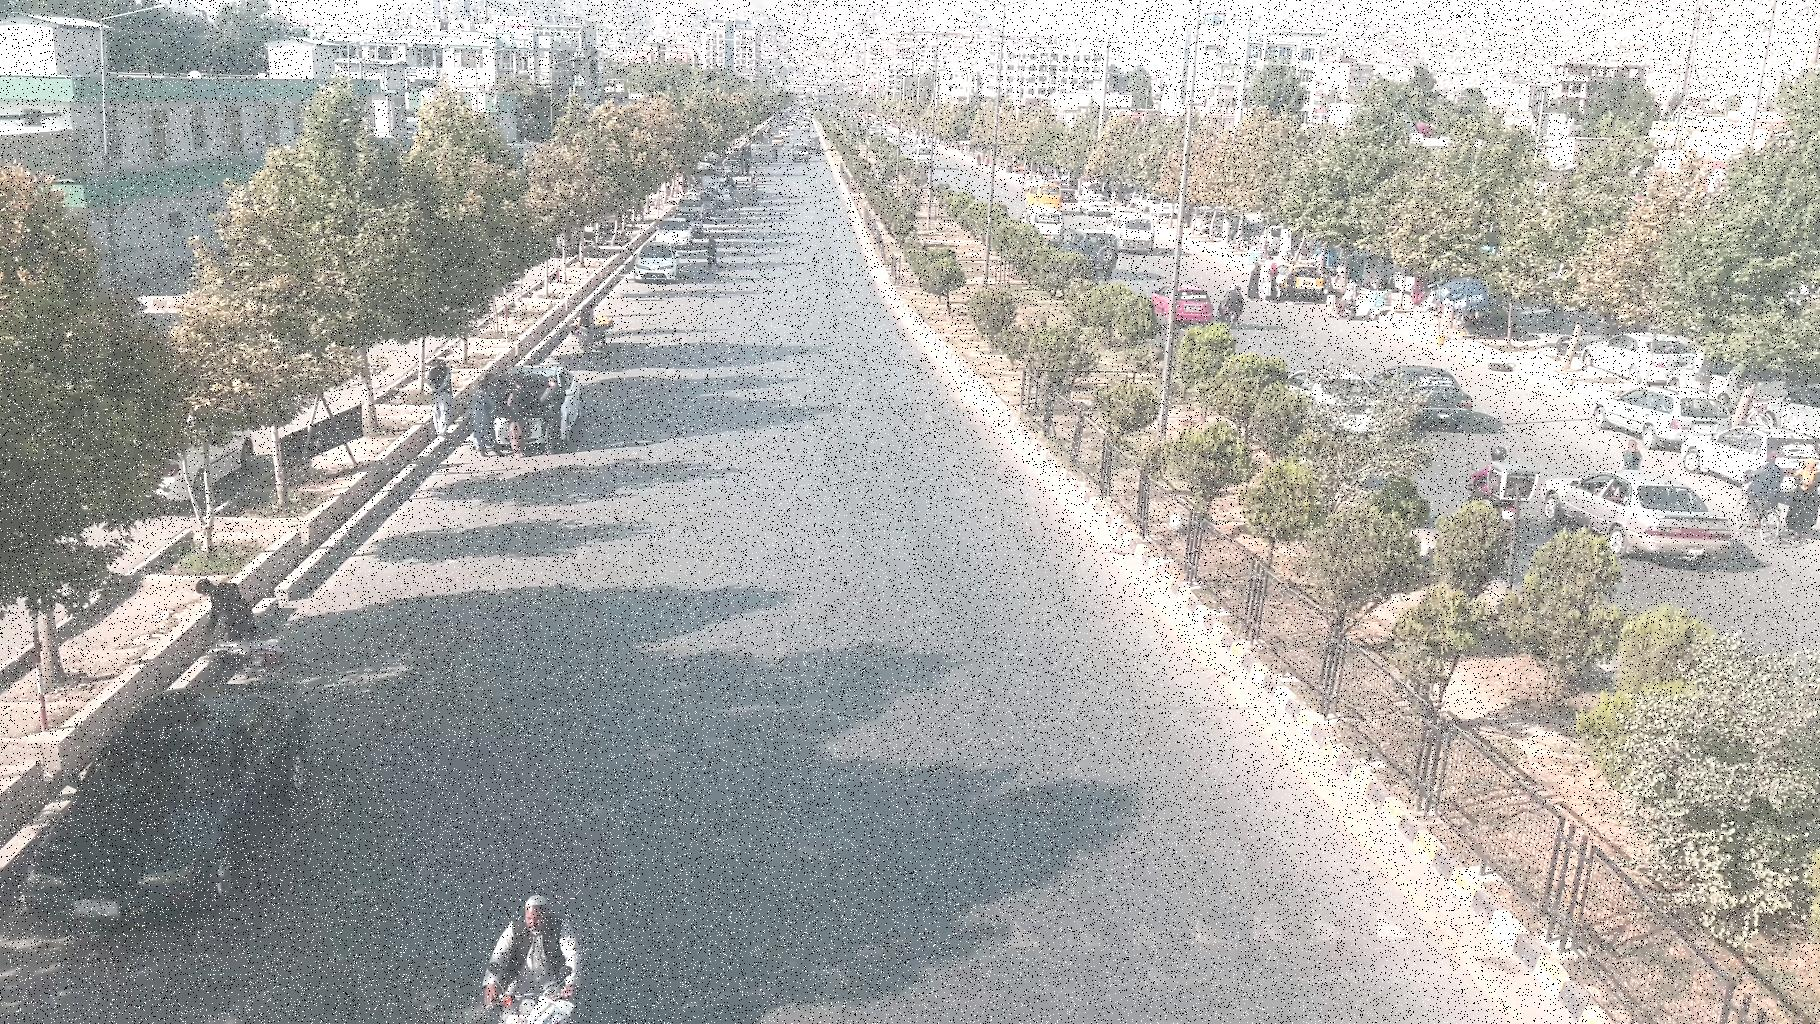bike: (471, 896, 595, 1024), (1465, 444, 1535, 540), (1217, 284, 1244, 333)
bus: (1106, 215, 1154, 249)
car: (39, 674, 309, 921), (1560, 471, 1744, 565), (1592, 385, 1741, 453), (1685, 425, 1820, 494), (1272, 364, 1382, 436), (1365, 364, 1475, 428), (1147, 284, 1215, 324), (1062, 230, 1117, 276), (632, 255, 679, 286)
